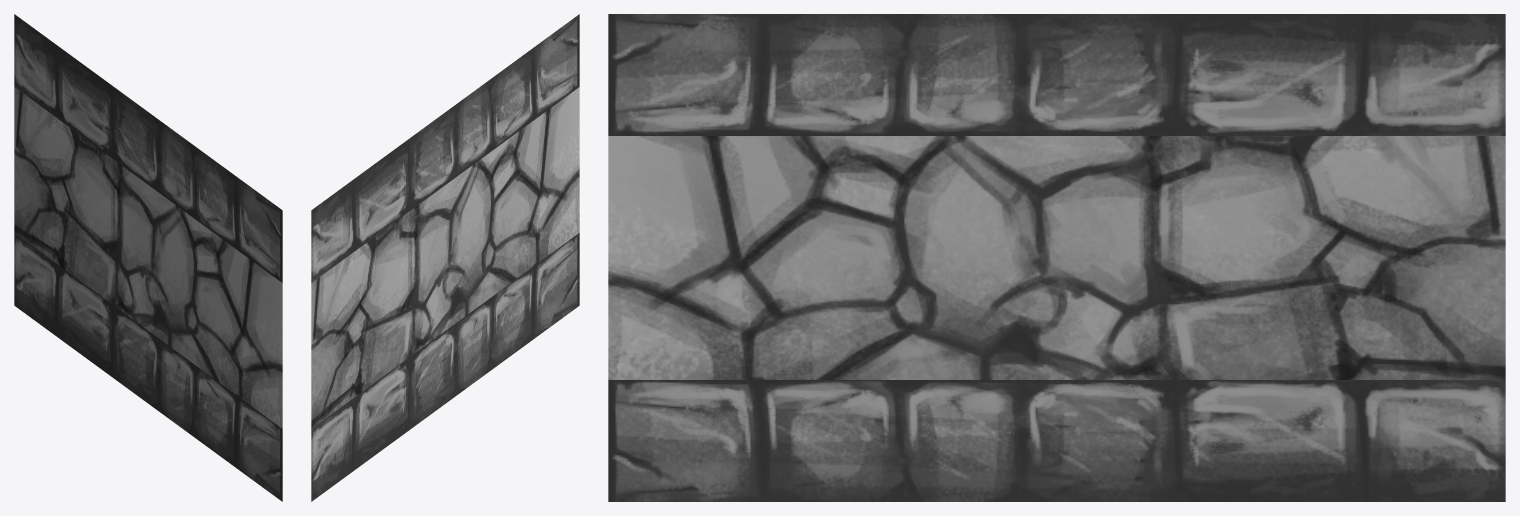
The model's file is Wall.fbx.
3 renders of one model, left to right at view 1: azimuth 30°, elevation 25°; view 2: azimuth 150°, elevation 25°; view 3: azimuth 270°, elevation 25°, orthographic. The views are drawn at different scales.
Parts seen in each view (by area): view 1: Wall; view 2: Wall; view 3: Wall.
Part boxes in pixels (left/top/right/bottom): Wall: left=14, top=14, right=282, bottom=501; Wall: left=311, top=14, right=579, bottom=501; Wall: left=608, top=14, right=1505, bottom=501.
Size of the model in its own units: 9.02e-07 by 5 by 3.
1 material, 1 textured.
